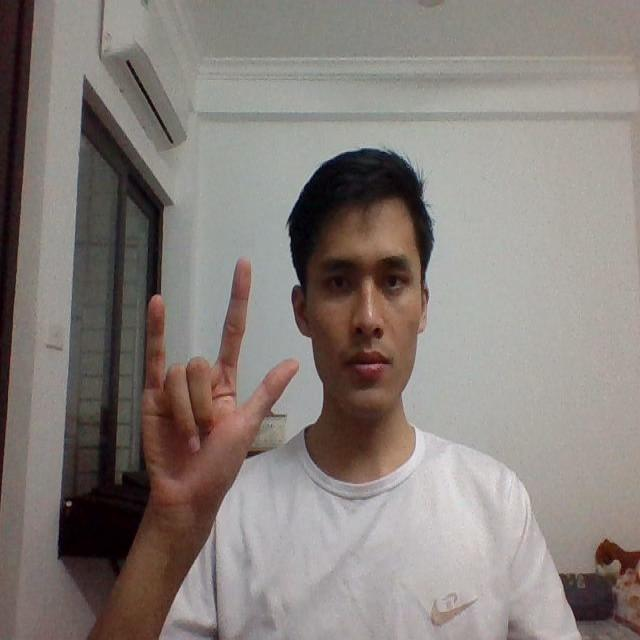love: (133, 250, 302, 512)
